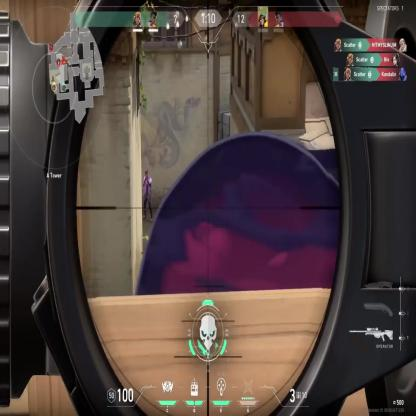enemy: (141, 170, 154, 223)
enemy_head: (145, 170, 148, 177)
